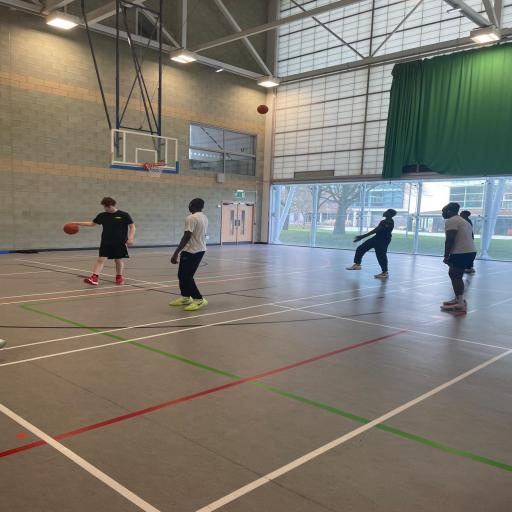hoops: (140, 157, 174, 181)
